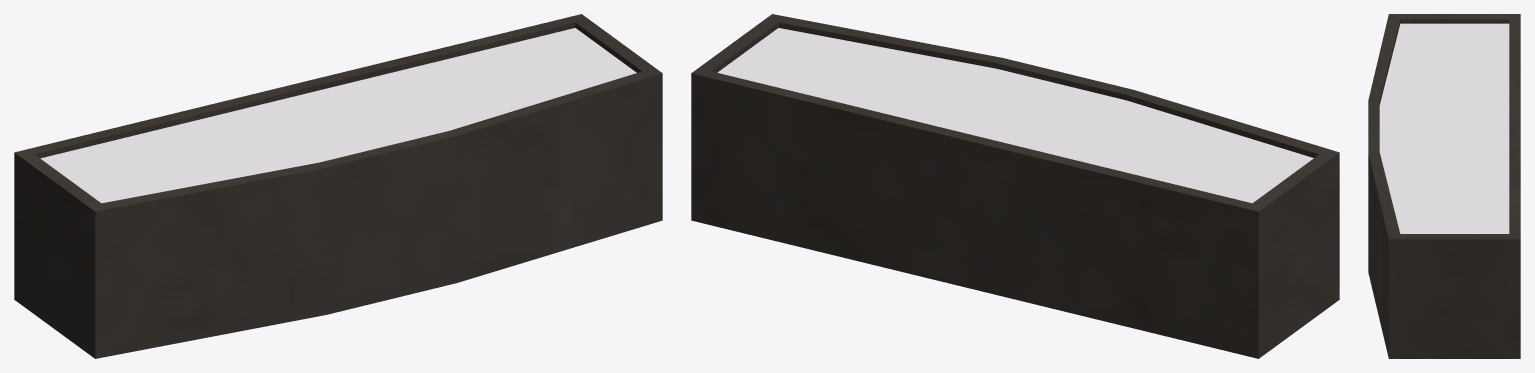
The model's file is sconce_3.fbx.
The picture shows the model from 3 angles, left to right: view 1: azimuth 30°, elevation 25°; view 2: azimuth 150°, elevation 25°; view 3: azimuth 270°, elevation 25°; orthographic projection. The views are drawn at different scales.
Visible parts, largest first — view 1: pCube54; view 2: pCube54; view 3: pCube54.
Boxes of the visible parts, box(x1,y1,x2,y2) form: pCube54: box(14, 14, 662, 358); pCube54: box(691, 14, 1339, 358); pCube54: box(1368, 14, 1520, 358).
Bounding box in the file's own units: 53.79 × 13.34 × 15.38.
1 material, 1 textured.
